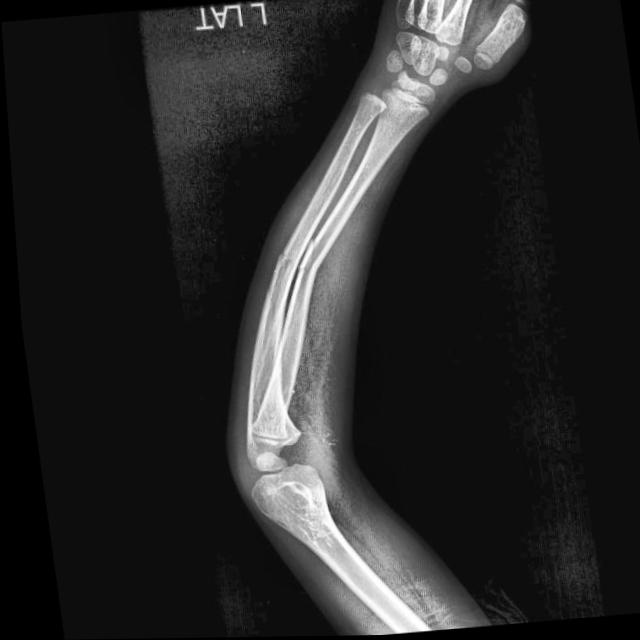fracture: (269, 246, 298, 280), (295, 238, 318, 280)
